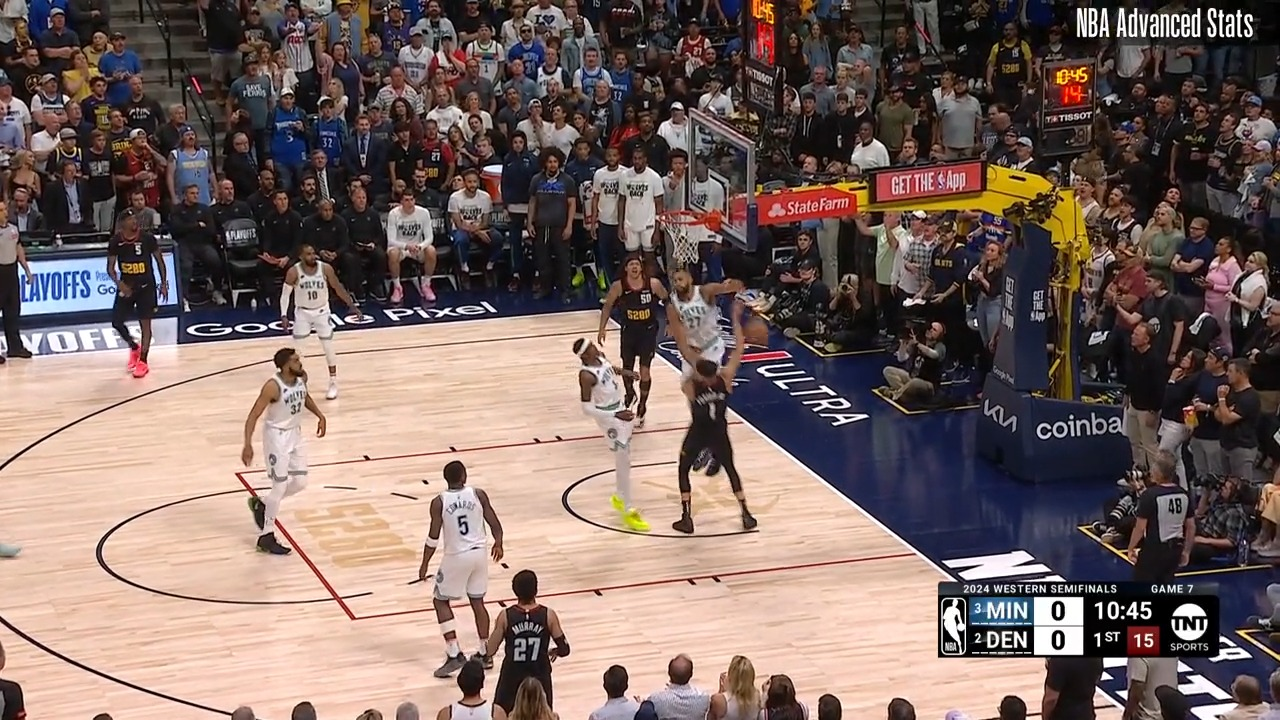basketball: (741, 315, 771, 347)
